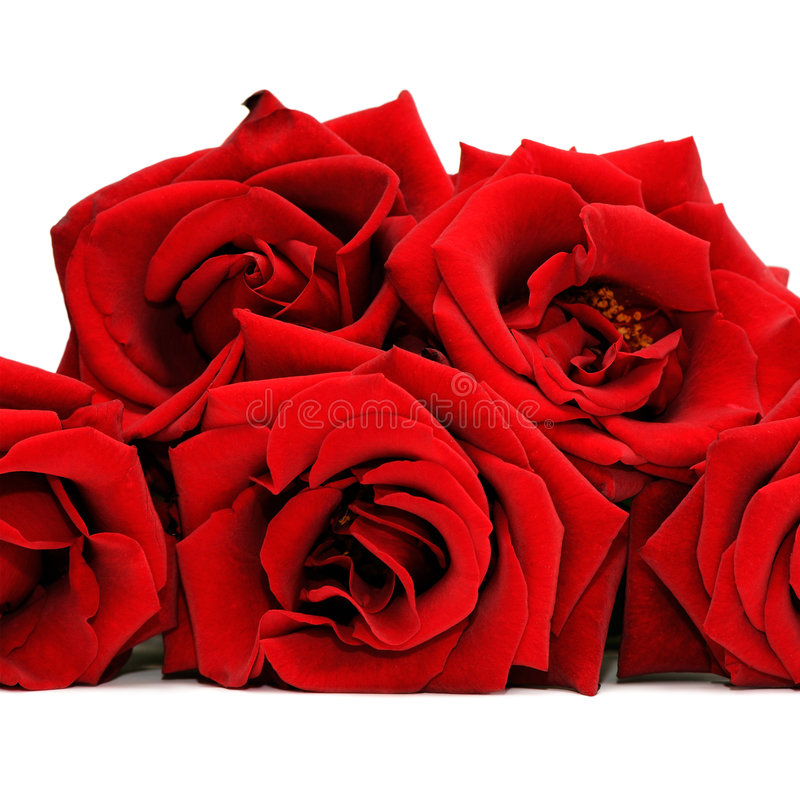RedRose: (439, 151, 736, 439), (241, 410, 538, 697), (101, 188, 443, 383), (666, 252, 792, 676), (19, 355, 179, 660)
